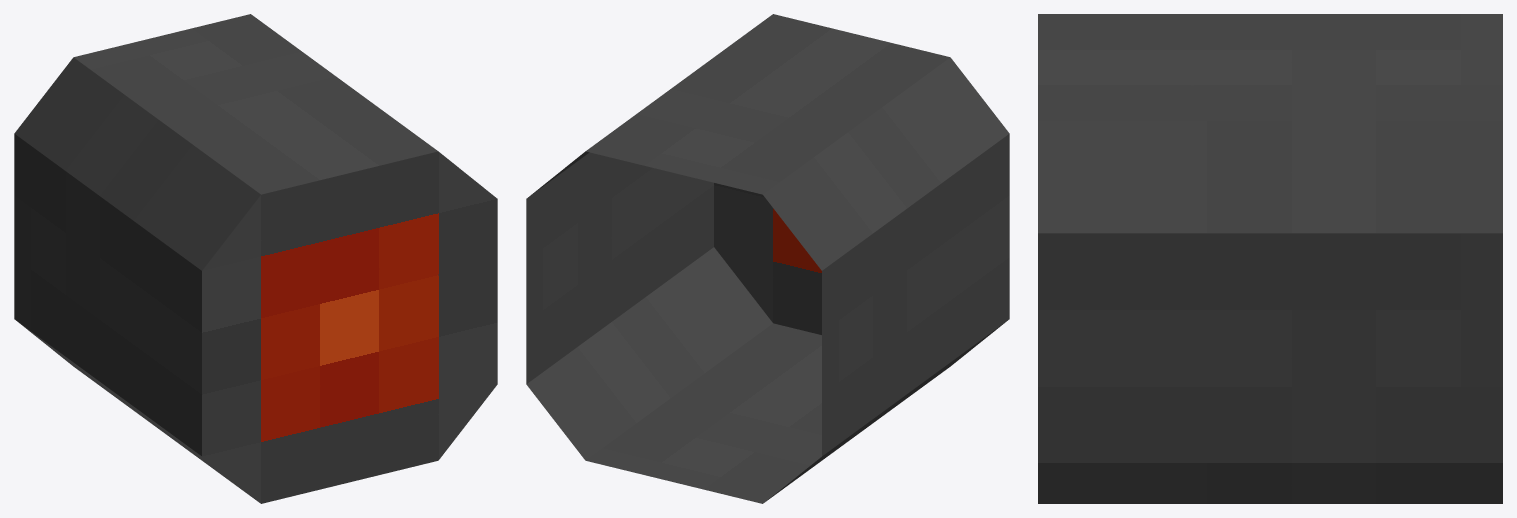
Rendered from det_cord_negz.obj.
3 renders of one model, left to right at view 1: azimuth 30°, elevation 25°; view 2: azimuth 150°, elevation 25°; view 3: azimuth 270°, elevation 25°, orthographic. The views are drawn at different scales.
Visible parts, largest first — view 1: negZ; view 2: negZ; view 3: negZ.
Boxes of the visible parts, x1,y1,x2,y2 form: negZ: (14, 14, 497, 503); negZ: (526, 14, 1009, 503); negZ: (1038, 14, 1502, 503).
Size of the model in its own units: 0.3125 by 0.3125 by 0.3438.
